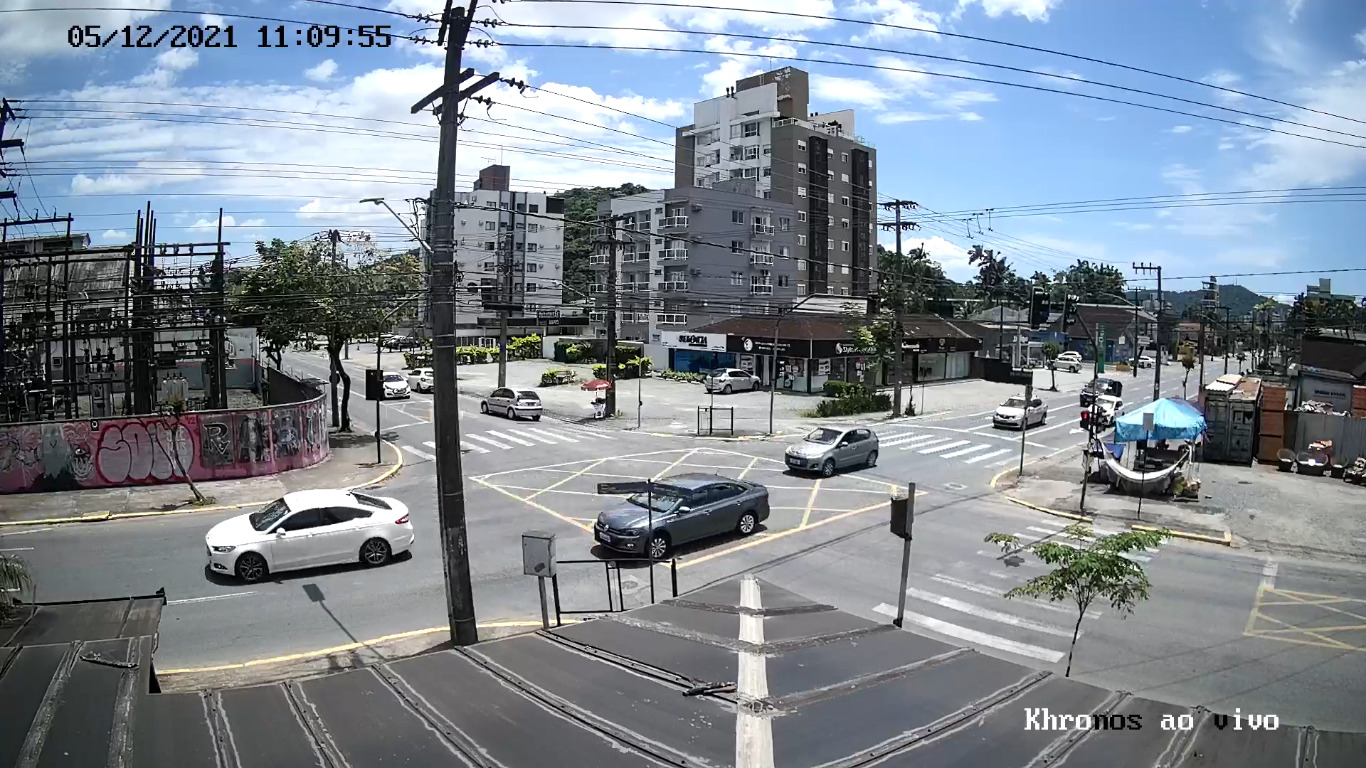car: (204, 487, 416, 582), (590, 471, 771, 558), (784, 421, 879, 477)
